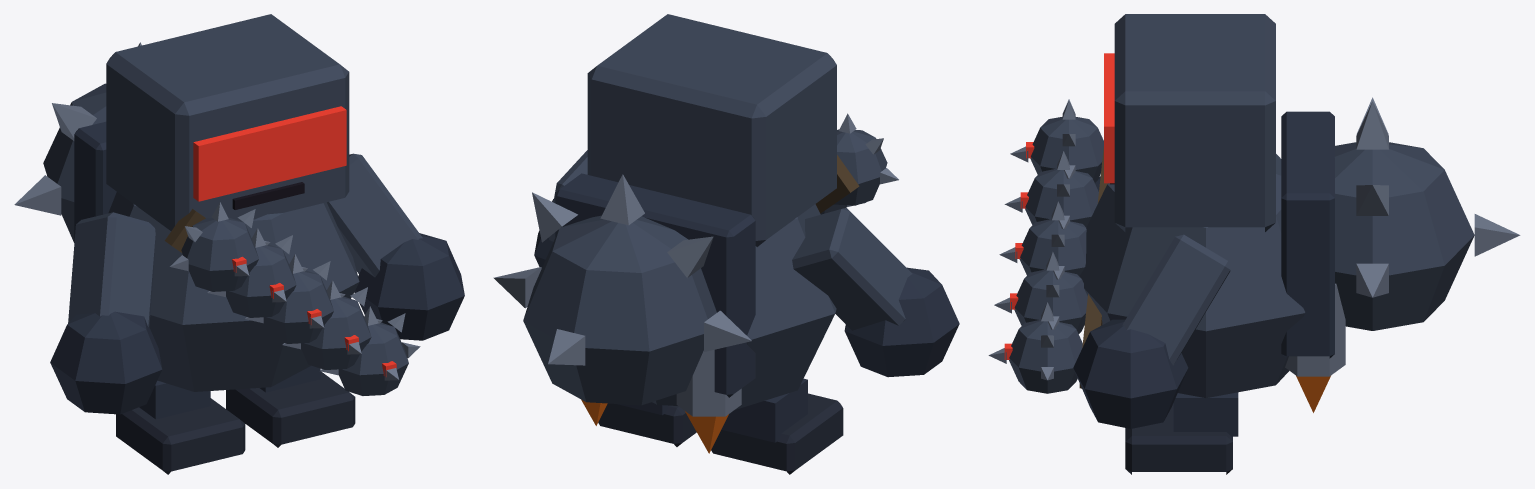
File: r9_mini_mine_bomber.glb
The picture shows the model from 3 angles, left to right: view 1: azimuth 30°, elevation 25°; view 2: azimuth 150°, elevation 25°; view 3: azimuth 270°, elevation 25°; orthographic projection. The views are drawn at different scales.
Visible parts, largest first — view 1: r9_mini_mine_bomber_mesh; view 2: r9_mini_mine_bomber_mesh; view 3: r9_mini_mine_bomber_mesh.
Part boxes in pixels (box(x1,y1,x2,y2)): r9_mini_mine_bomber_mesh: box(14, 14, 464, 474); r9_mini_mine_bomber_mesh: box(493, 14, 959, 474); r9_mini_mine_bomber_mesh: box(988, 14, 1520, 474).
Bounding box in the file's own units: 4.04 × 3.6 × 4.6.
Materials: 1 (1 with a texture image).
